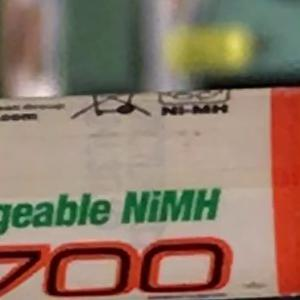NIMH: (112, 179, 230, 233)
